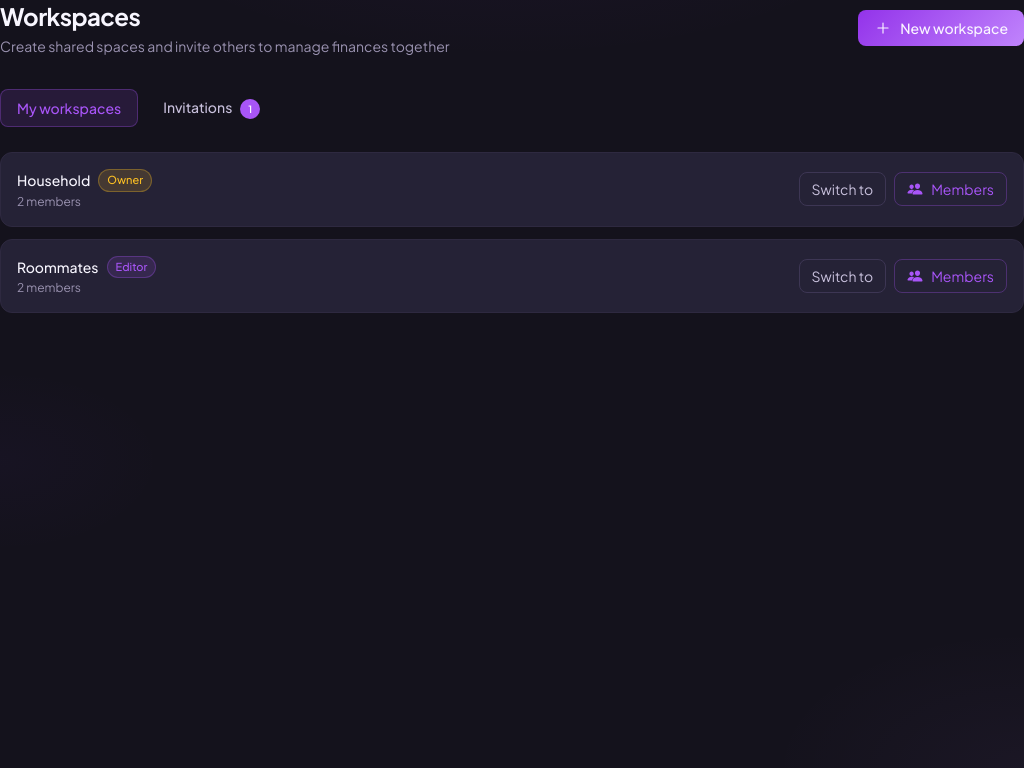
it: Workspaces - create › creates a workspace, refetches the list, and makes it the active workspace
Expected: the text "Household" is shown, [17,170,90,190]
Step 1. Click the button "New workspace" → (941, 28), box [858,10,1023,46]
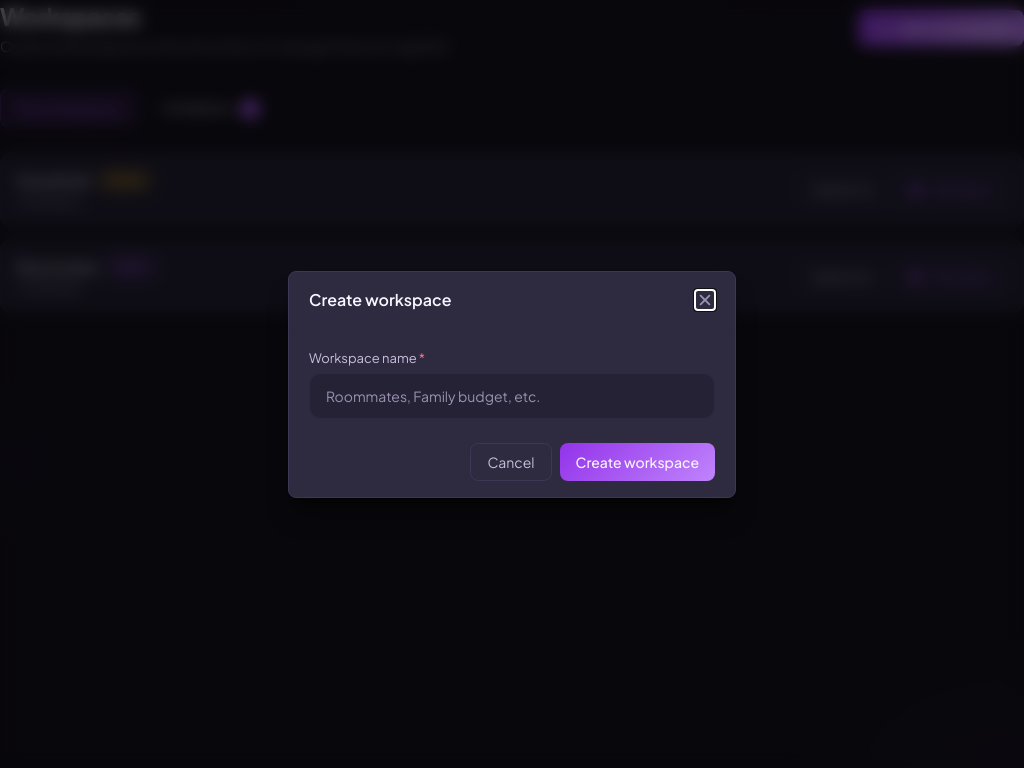
Step 2. Type "New crew" into the field with placeholder "Roommates, Family budget, etc." → (512, 396), box [326,386,698,406]
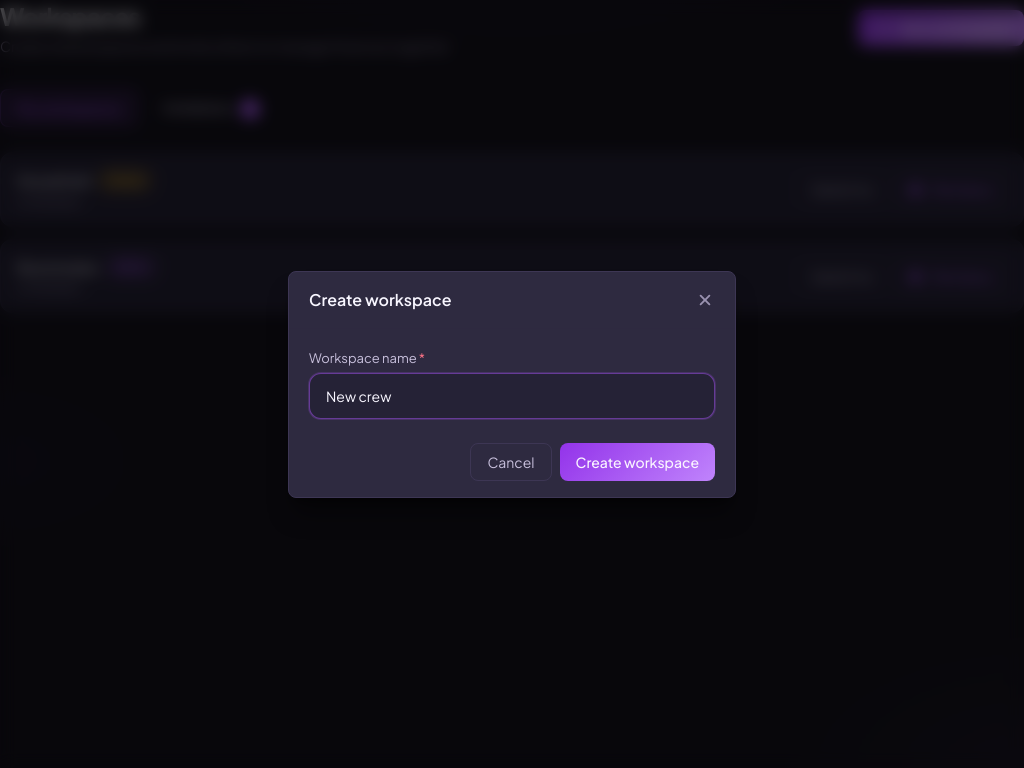
Step 3. Click the button "Create workspace" → (637, 462), box [560,442,715,480]
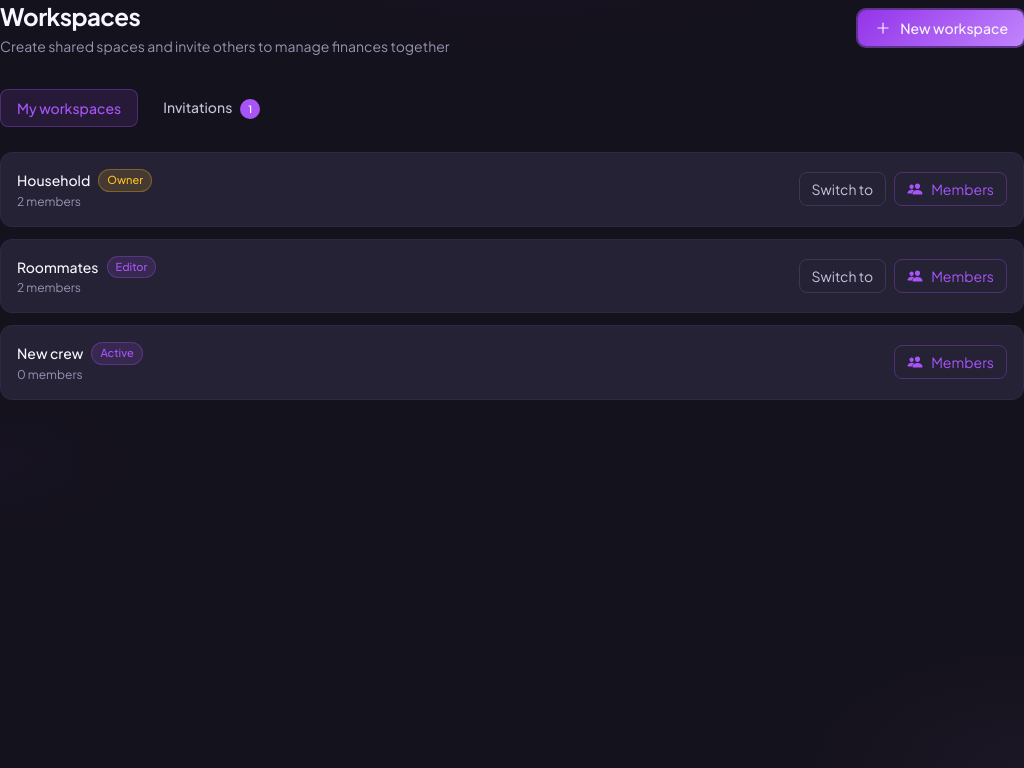
Expected: the text "New crew" is shown, [17,343,83,363]
Expected: the text "Active" is shown, [91,342,143,365]
